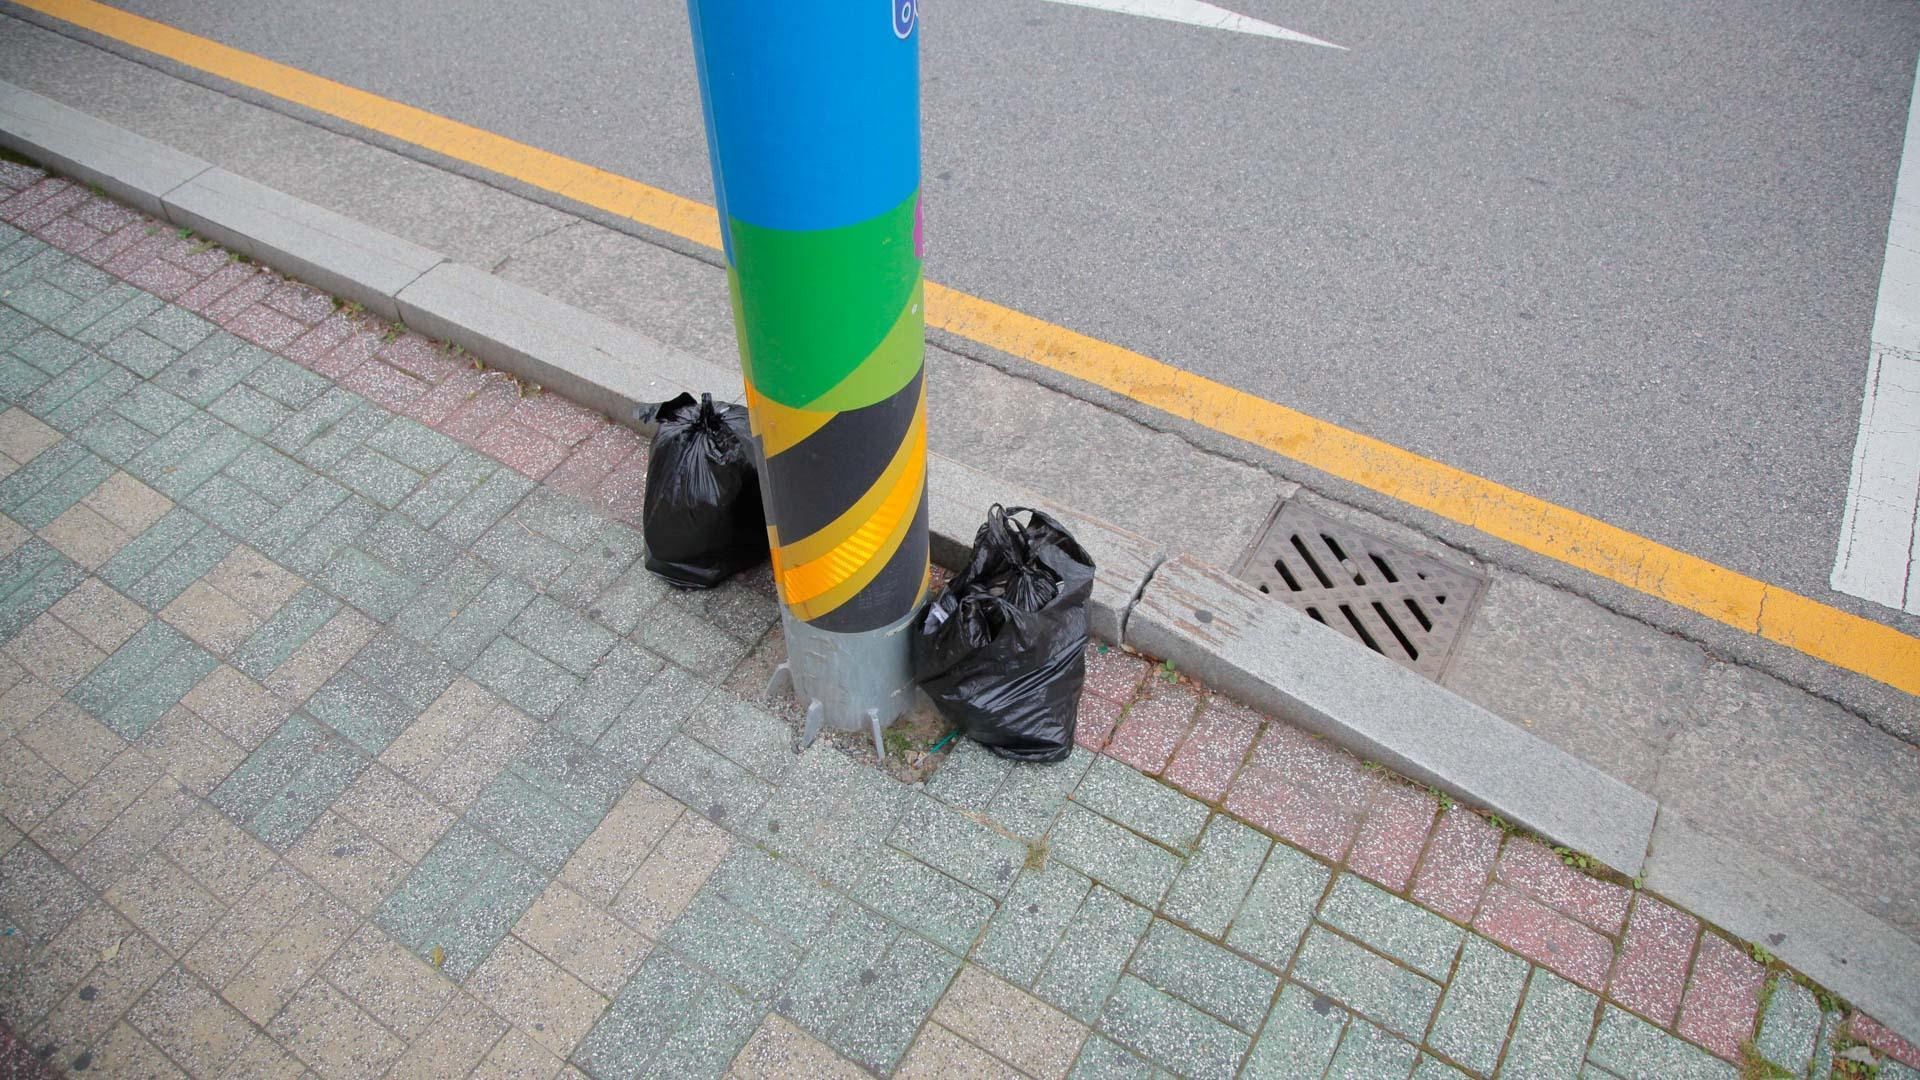black_bag: (881, 498, 1102, 767), (622, 375, 799, 595)
